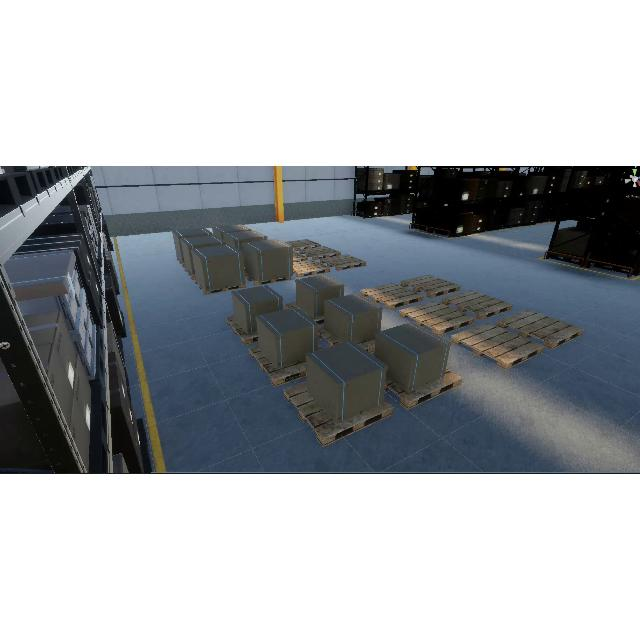wooden_pallet: (282, 380, 394, 449), (450, 322, 543, 370), (498, 308, 584, 348), (385, 366, 462, 410), (399, 300, 474, 336), (249, 345, 309, 386), (442, 288, 513, 321), (359, 282, 424, 310), (400, 274, 462, 297), (224, 314, 258, 346), (194, 277, 246, 294), (320, 254, 366, 272), (244, 269, 292, 286), (293, 259, 332, 278), (299, 246, 341, 260), (284, 238, 321, 251), (292, 250, 308, 263)
